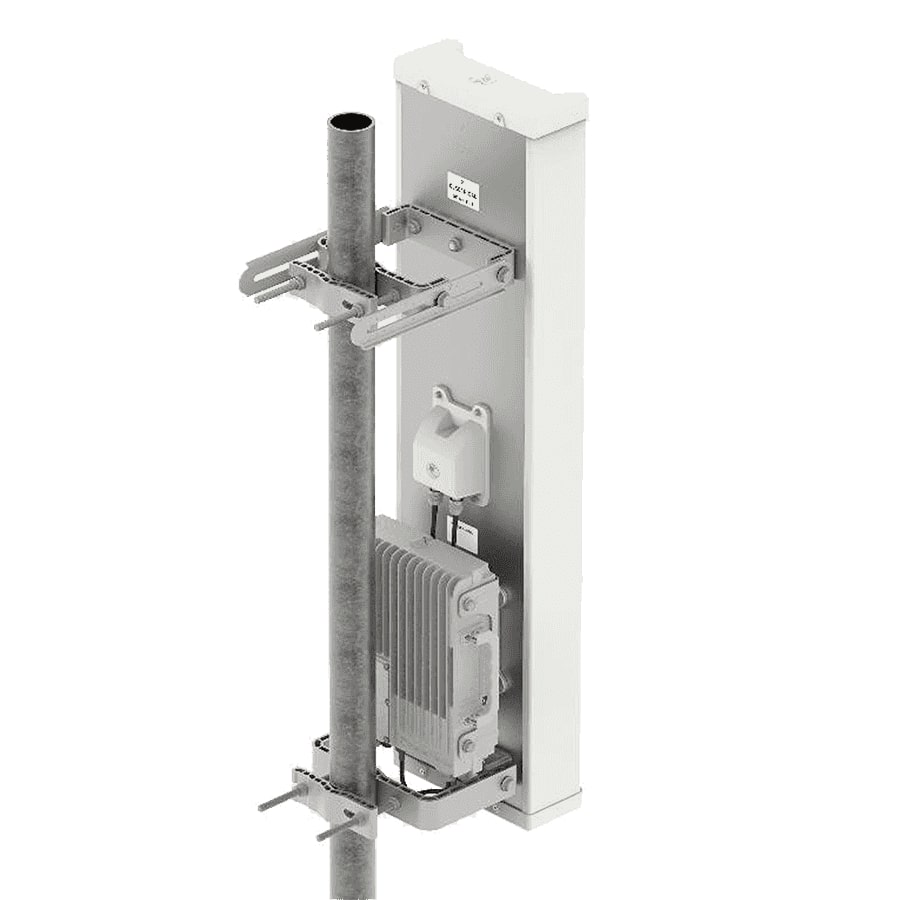sa: (292, 37, 619, 860)
